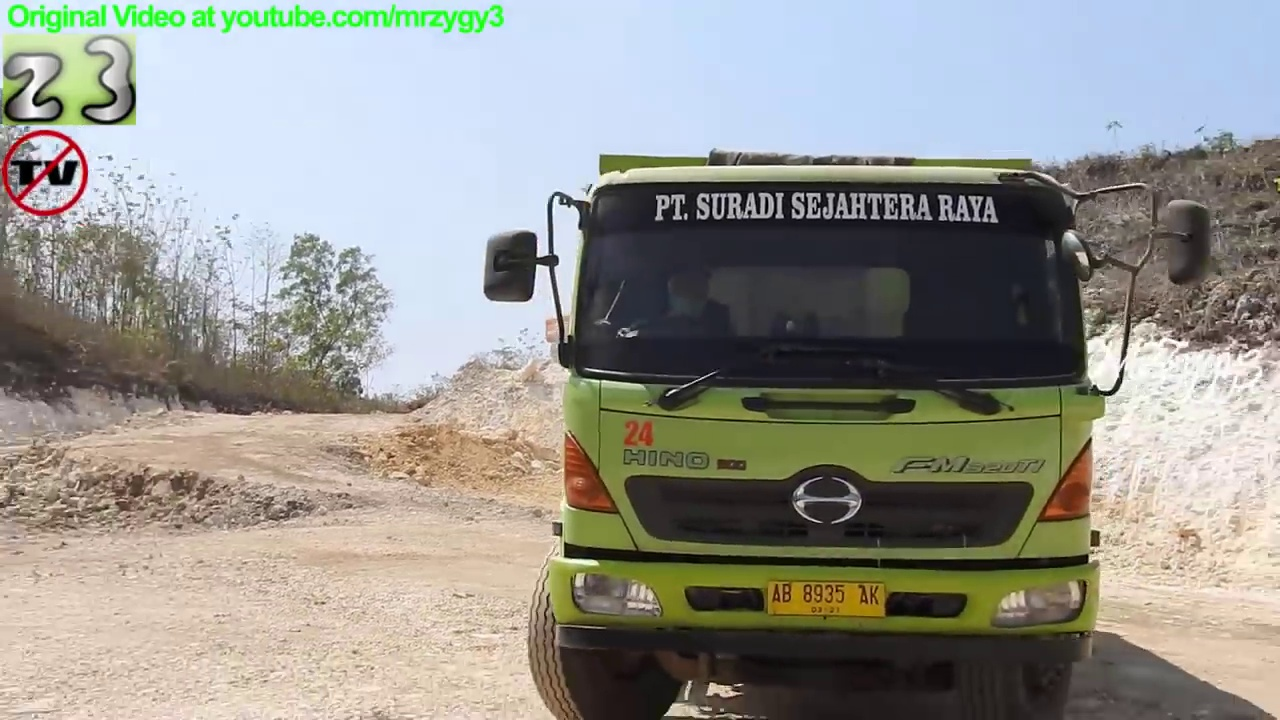excavator: (538, 195, 707, 372)
truck: (477, 143, 1224, 720)
